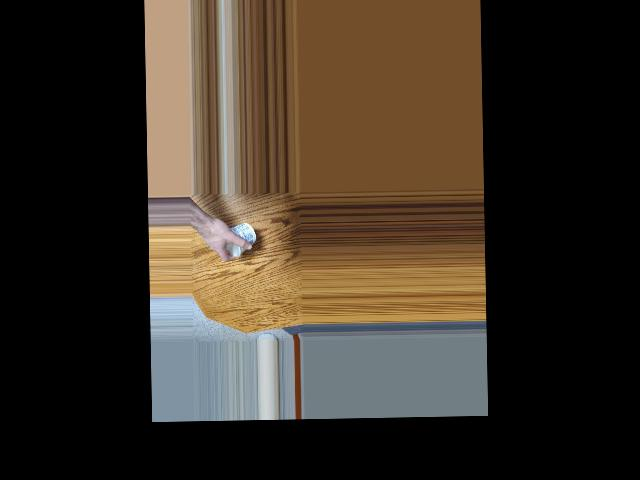cotage: (222, 222, 254, 257)
